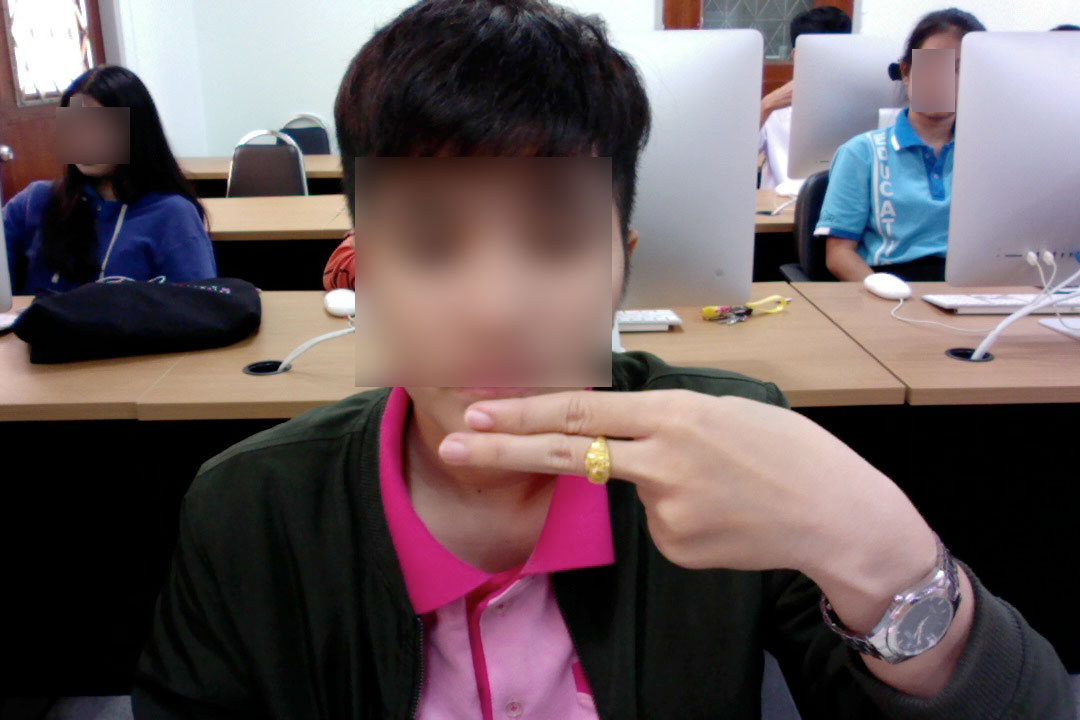hor: (422, 381, 912, 584)
